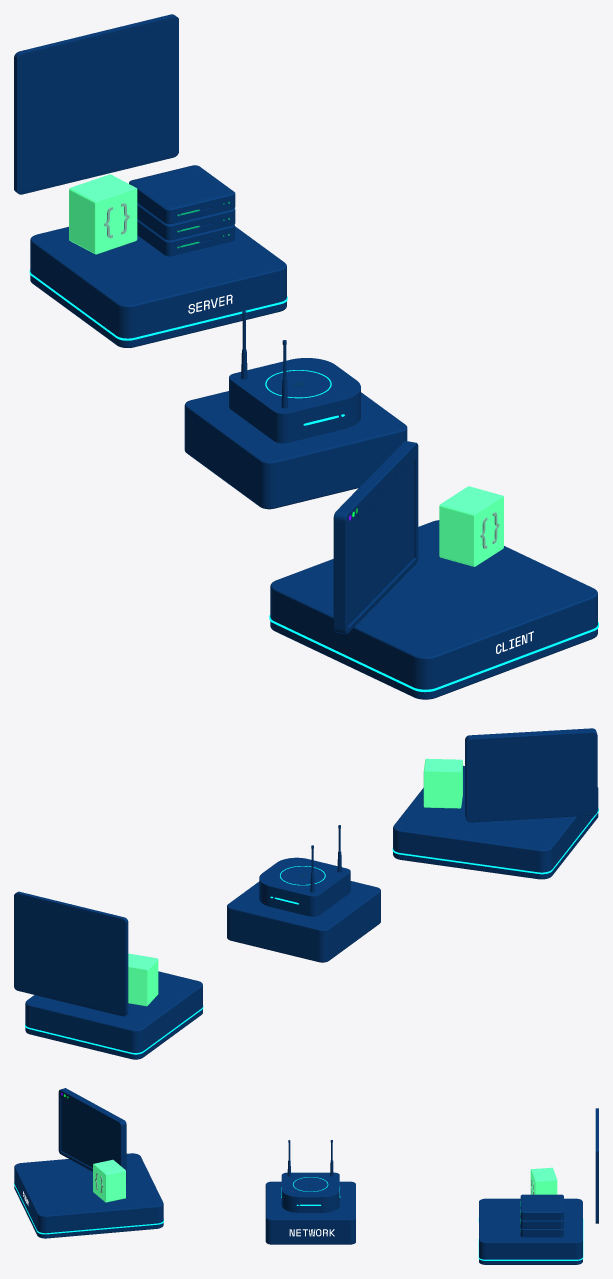
File: json_flow.glb
3 renders of one model, top to bottom at view 1: azimuth 30°, elevation 25°; view 2: azimuth 150°, elevation 25°; view 3: azimuth 270°, elevation 25°, orthographic. The views are drawn at different scales.
Parts seen in each view (by area): view 1: ClientPlatform, ServerScreen, ServerPlatform, NetworkPlatform, ScreenJson, RouterPlatform, ServerGreenJson, GreenJson, Machine3, Machine2, Machine, ClientGlowLine; view 2: ScreenJson, ServerScreen, ClientPlatform, ServerPlatform, NetworkPlatform, RouterPlatform, GreenJson, ServerGreenJson, ClientGlowLine; view 3: ClientPlatform, ServerPlatform, ScreenJson, NetworkPlatform, RouterPlatform, GreenJson, Machine3, ServerGreenJson, ServerScreen, Machine, Machine2, ClientGlowLine (+1 smaller).
Boxes of the visible parts, left/top/right/bottom form: ClientPlatform: left=270, top=520, right=597, bottom=699; ServerScreen: left=14, top=14, right=178, bottom=194; ServerPlatform: left=30, top=226, right=286, bottom=347; NetworkPlatform: left=184, top=391, right=407, bottom=509; ScreenJson: left=333, top=441, right=418, bottom=634; RouterPlatform: left=229, top=358, right=360, bottom=443; ServerGreenJson: left=69, top=174, right=137, bottom=254; GreenJson: left=439, top=486, right=503, bottom=566; Machine3: left=129, top=165, right=235, bottom=223; Machine2: left=137, top=203, right=235, bottom=240; Machine: left=137, top=219, right=234, bottom=256; ClientGlowLine: left=269, top=615, right=598, bottom=692; ScreenJson: left=465, top=728, right=597, bottom=822; ServerScreen: left=14, top=891, right=128, bottom=1016; ClientPlatform: left=393, top=765, right=598, bottom=879; ServerPlatform: left=25, top=971, right=202, bottom=1059; NetworkPlatform: left=227, top=881, right=380, bottom=962; RouterPlatform: left=259, top=857, right=350, bottom=916; GreenJson: left=423, top=758, right=462, bottom=808; ServerGreenJson: left=128, top=953, right=158, bottom=1006; ClientGlowLine: left=392, top=808, right=598, bottom=874; ClientPlatform: left=14, top=1153, right=163, bottom=1238; ServerPlatform: left=479, top=1198, right=582, bottom=1264; ScreenJson: left=58, top=1088, right=126, bottom=1183; NetworkPlatform: left=265, top=1181, right=355, bottom=1244; RouterPlatform: left=281, top=1172, right=339, bottom=1212; GreenJson: left=93, top=1159, right=125, bottom=1202; Machine3: left=520, top=1194, right=563, bottom=1220; ServerGreenJson: left=530, top=1167, right=557, bottom=1194; ServerScreen: left=595, top=1108, right=598, bottom=1223; Machine: left=520, top=1228, right=563, bottom=1237; Machine2: left=520, top=1219, right=563, bottom=1228; ClientGlowLine: left=14, top=1182, right=163, bottom=1234.
Bounding box in the file's own units: 3.31 × 1.97 × 9.06.
